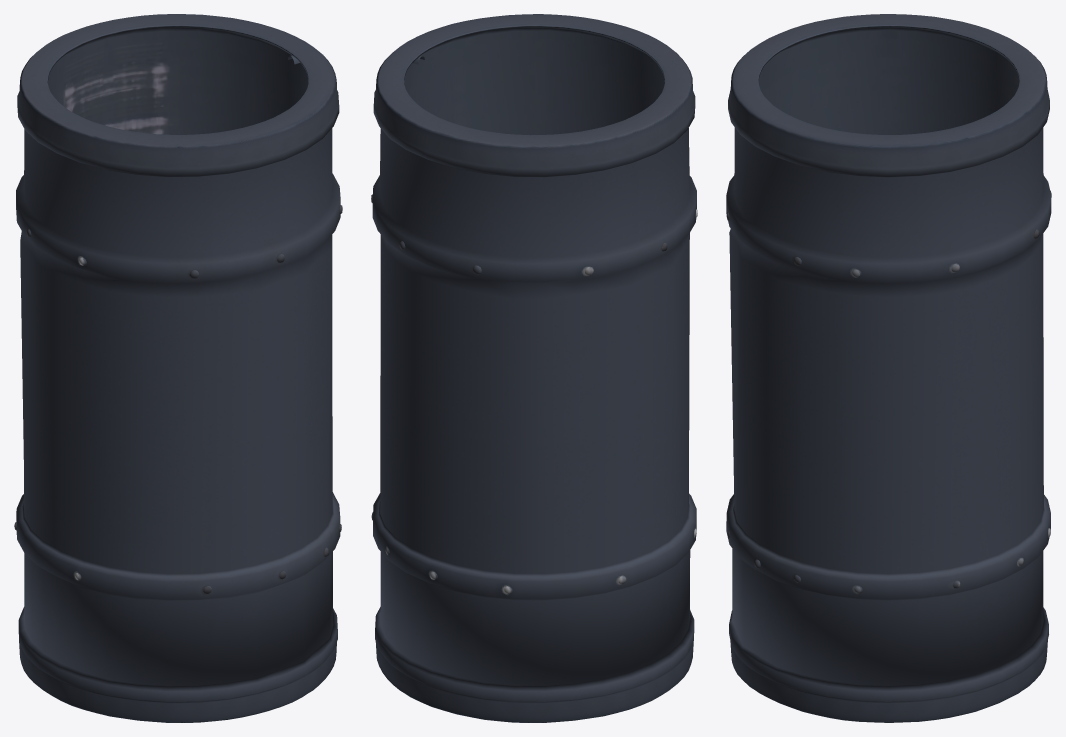
The model's file is Industrial Pipe.glb.
3 views of the same model, side by side, from view 1: azimuth 30°, elevation 25°; view 2: azimuth 150°, elevation 25°; view 3: azimuth 270°, elevation 25° (orthographic).
Parts seen in each view (by area): view 1: tripo_node_6fda3e64-de56-43af-870a-8d9ebfdcd113; view 2: tripo_node_6fda3e64-de56-43af-870a-8d9ebfdcd113; view 3: tripo_node_6fda3e64-de56-43af-870a-8d9ebfdcd113.
Part boxes in pixels (x1,y1,x2,y2): tripo_node_6fda3e64-de56-43af-870a-8d9ebfdcd113: (14, 14, 342, 722); tripo_node_6fda3e64-de56-43af-870a-8d9ebfdcd113: (371, 14, 697, 722); tripo_node_6fda3e64-de56-43af-870a-8d9ebfdcd113: (726, 14, 1051, 722).
Size of the model in its own units: 0.5103 by 0.9995 by 0.5103.
1 material, 1 textured.
